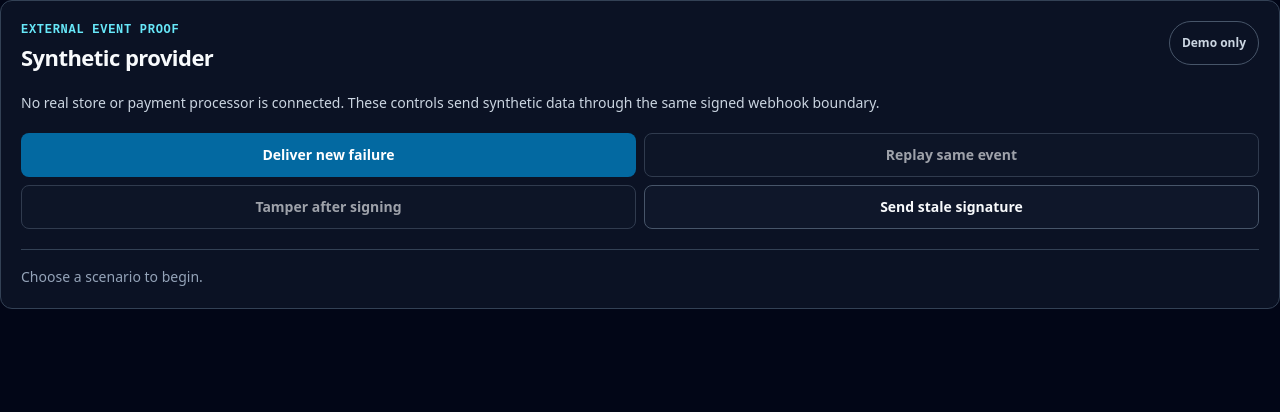
Test: SyntheticProviderPanel › delivers a fresh event, refreshes its committed case, and exposes no envelope material
The width and height of the screenshot is (1280, 412).
Click the button "Deliver new failure": (328, 155) [21, 133, 636, 177]
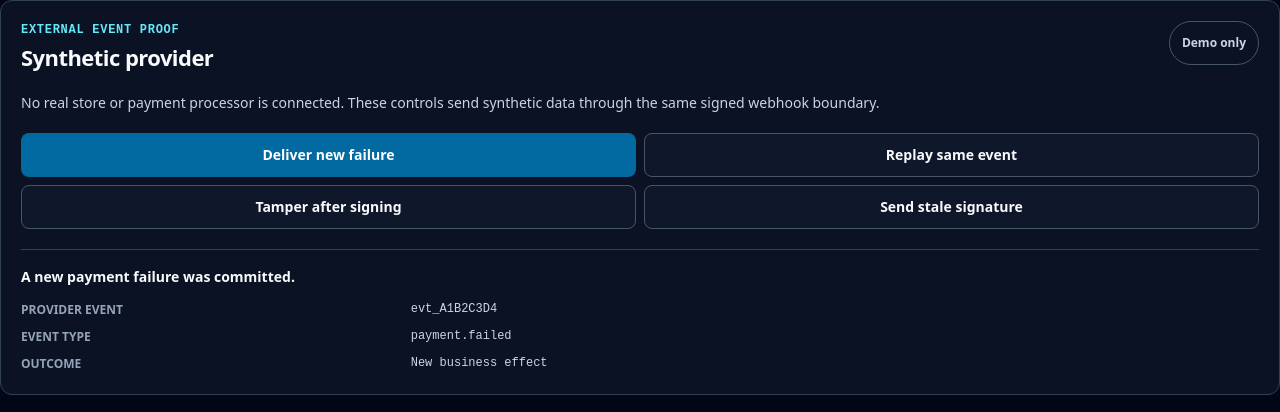
expect the text "A new payment failure was committed." is shown: met, box [21, 267, 295, 286]
expect the text "evt_A1B2C3D4" is shown: met, box [411, 302, 497, 316]
expect the text "payment.failed" is shown: met, box [411, 329, 512, 343]
